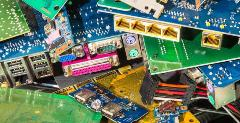electronic: (73, 33, 124, 61), (46, 48, 90, 68)
